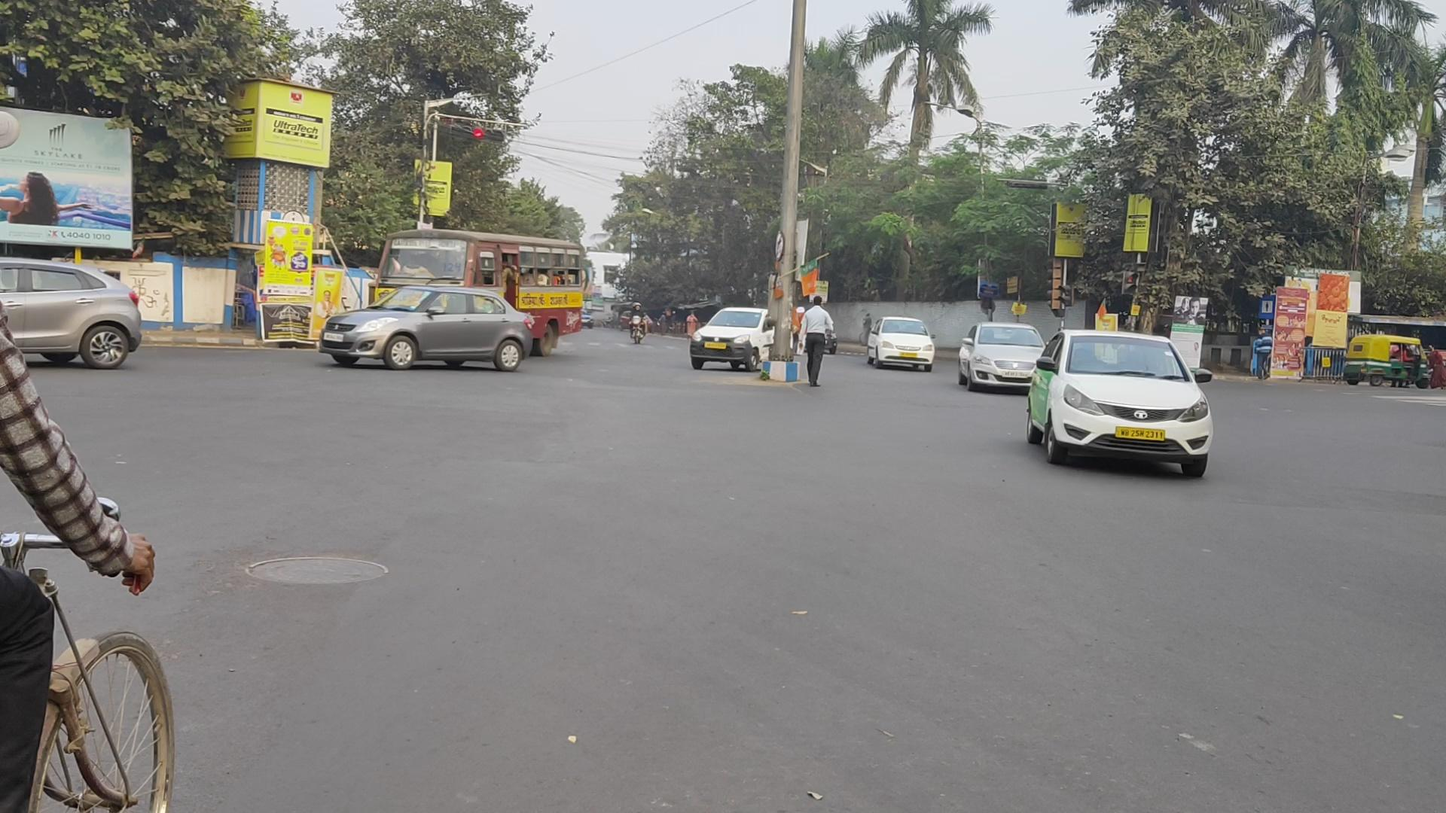Auto: (1343, 334, 1432, 390)
Bus: (375, 230, 584, 358)
bike: (628, 302, 647, 345)
car: (1027, 330, 1213, 479), (319, 285, 534, 372), (1, 256, 143, 370), (690, 307, 795, 372), (957, 321, 1049, 392), (868, 316, 935, 373)
